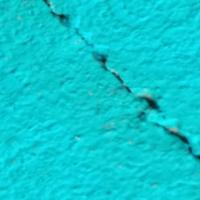crack: (45, 1, 199, 161)
